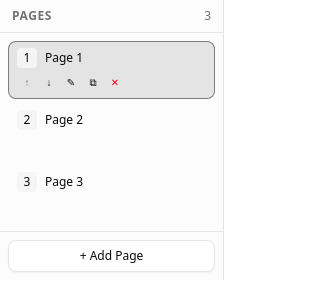
Test: PageNavigator › starts rename on rename button click
This screenshot has width=320, height=297.
Click the button with test id "page-rename-page-1" at (71, 82), box left=61, top=72, right=81, bottom=92
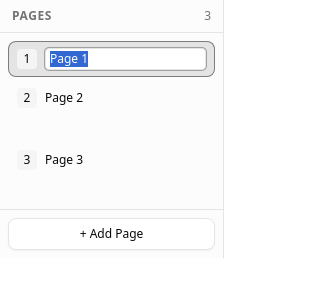
Check: the field with test id "page-rename-input-page-1" is shown, box left=45, top=48, right=206, bottom=70
